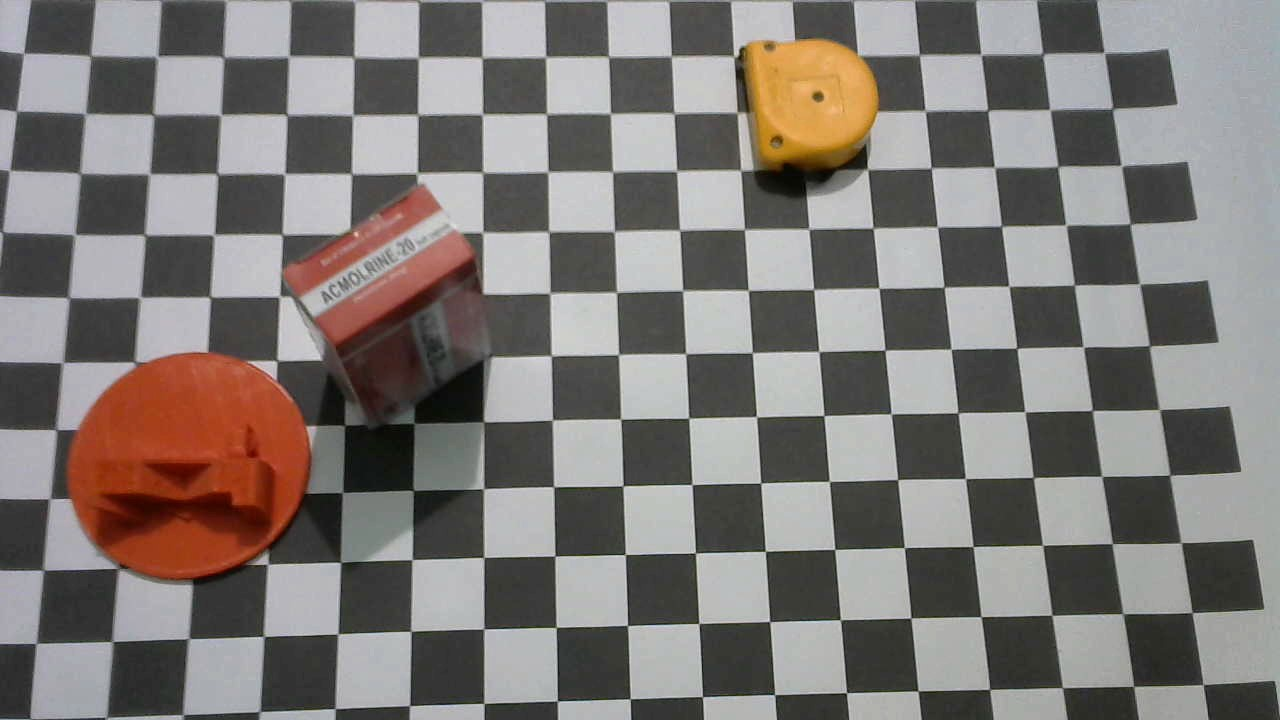blue: (736, 37, 879, 178)
green: (65, 350, 314, 584)
red: (281, 183, 497, 429)
